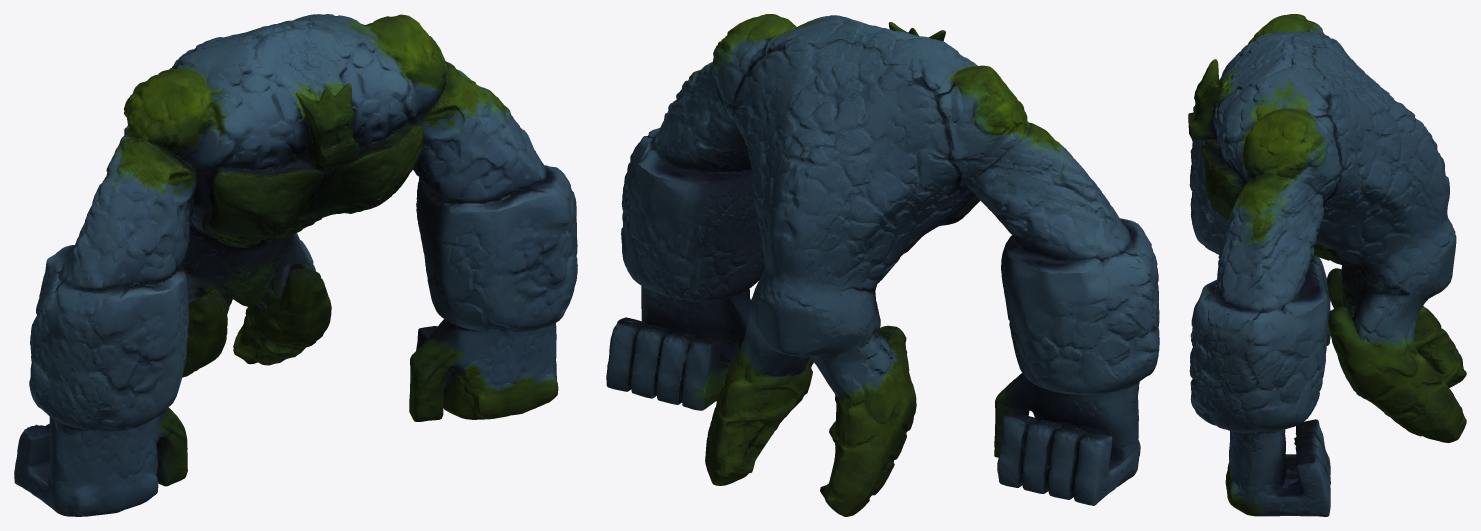
Rendered from Golem.glb.
3 renders of one model, left to right at view 1: azimuth 30°, elevation 25°; view 2: azimuth 150°, elevation 25°; view 3: azimuth 270°, elevation 25°, orthographic. The views are drawn at different scales.
Bounding box in the file's own units: 2.01 × 1.48 × 1.02.
Materials: 1 (1 with a texture image).
